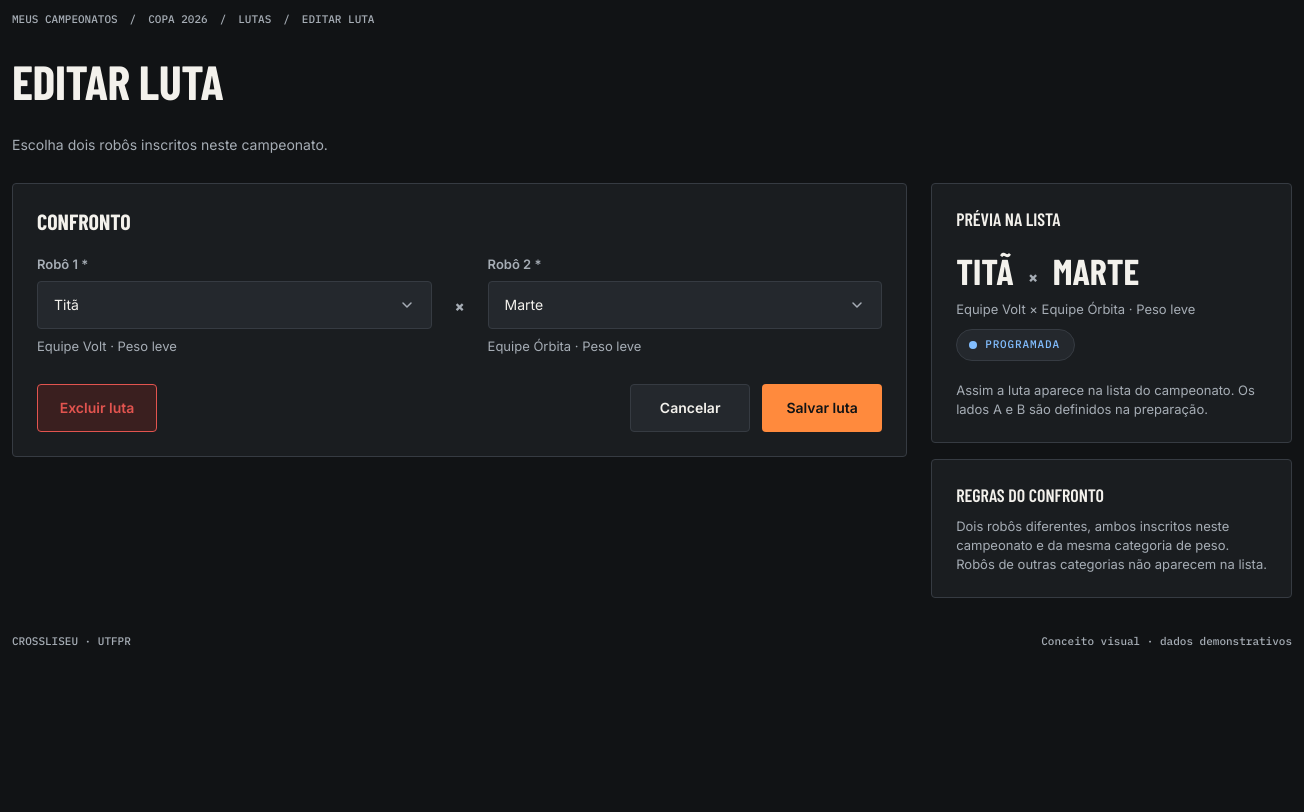
Test: MatchFormView › edit: explains a match that started since the form loaded
Click the dropdown labelled "Marte": (685, 305) 488,281 -> 882,329
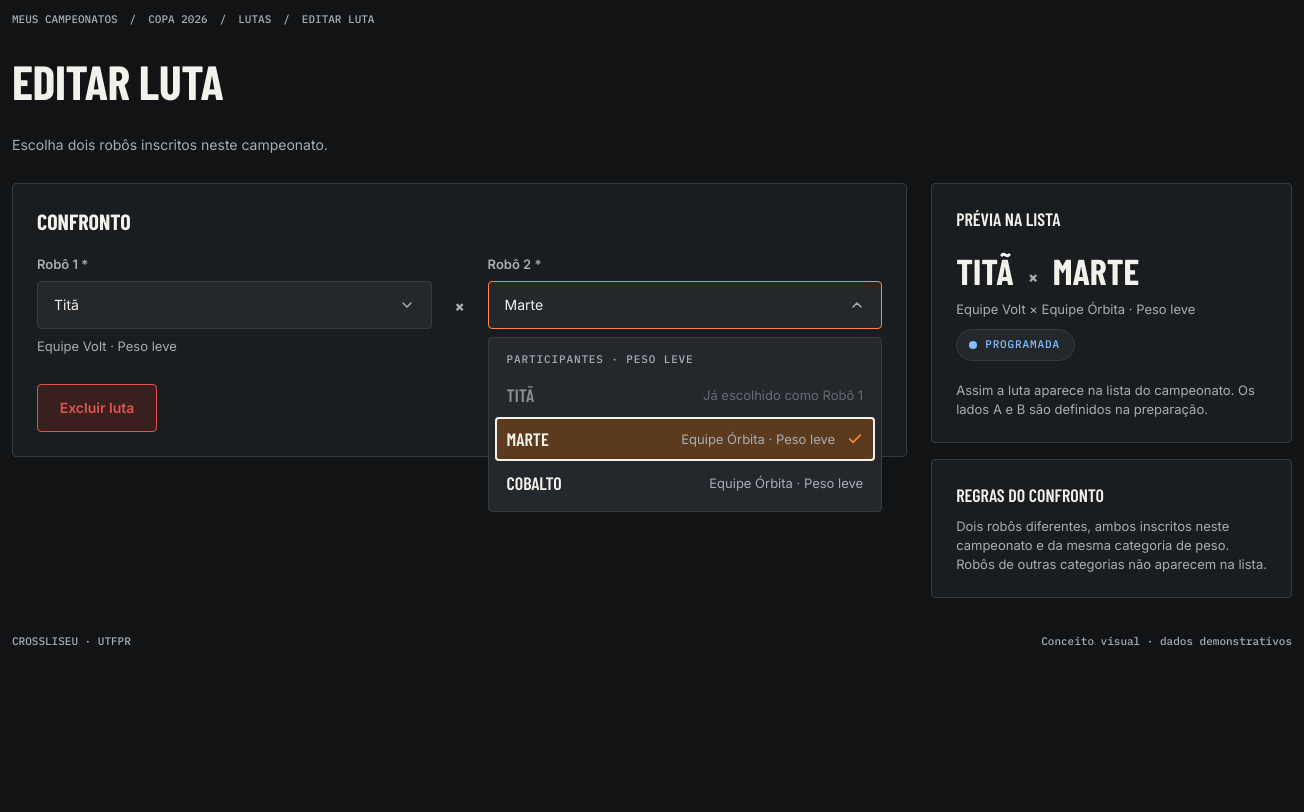
Click the option "Cobalto Equipe Órbita · Peso leve": (534, 483) 507,472 -> 863,494
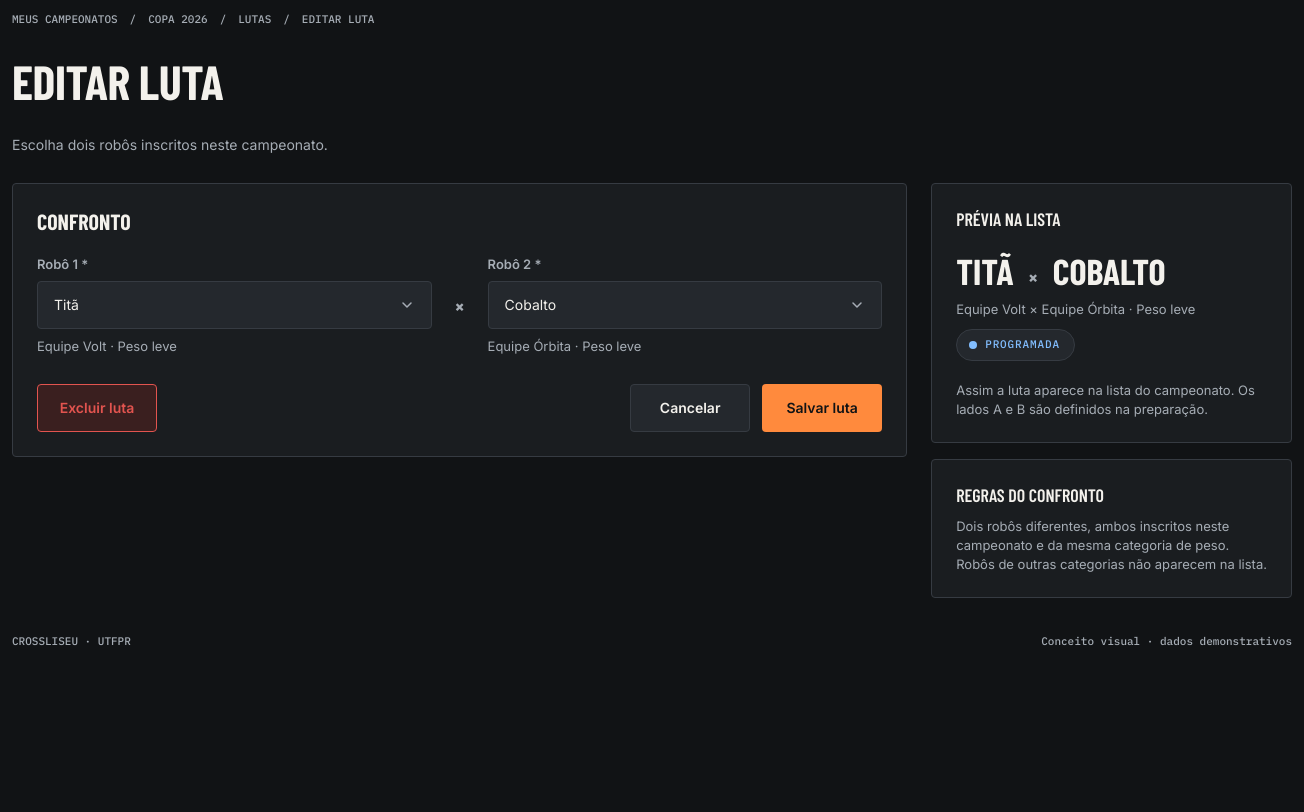
Submit the form, box 12,183 -> 907,457
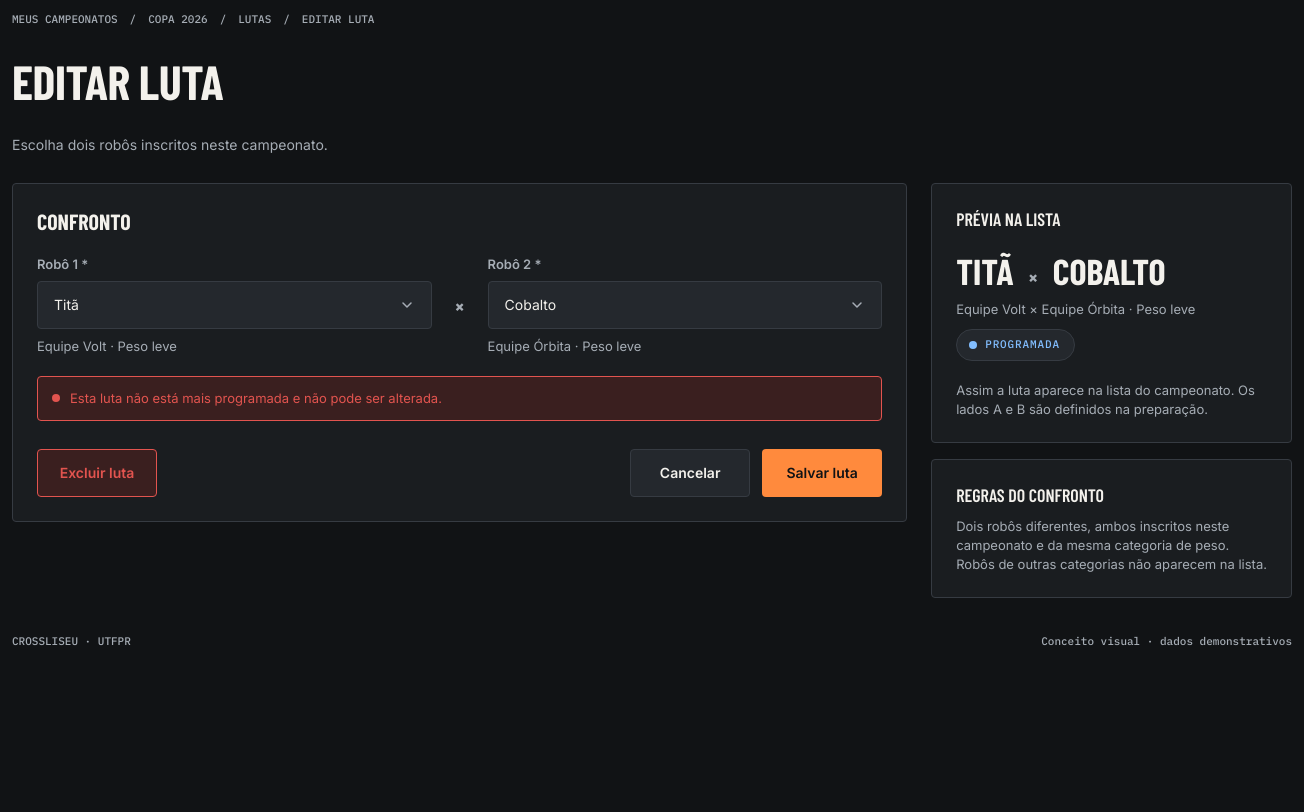
Expected: the message "Esta luta não está mais programada e não pode ser alterada." is shown, 37,376 -> 882,421
